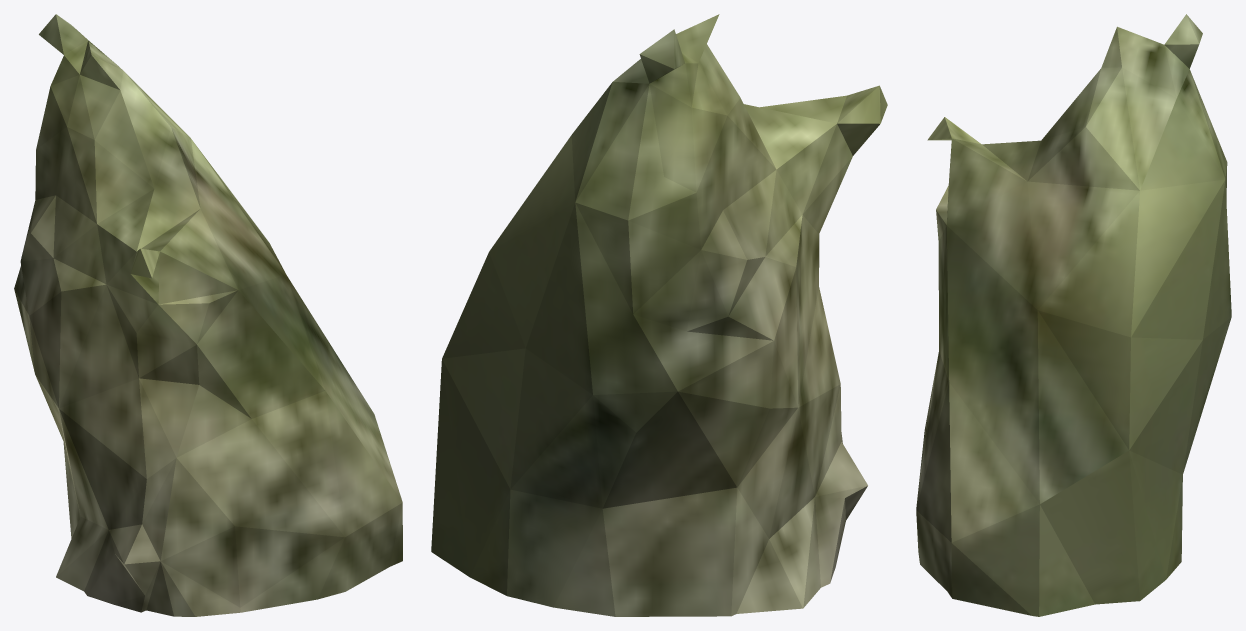
The picture shows the model from 3 angles, left to right: view 1: azimuth 30°, elevation 25°; view 2: azimuth 150°, elevation 25°; view 3: azimuth 270°, elevation 25°; orthographic projection. The views are drawn at different scales.
Size of the model in its own units: 1.17 by 1.8 by 1.07.
1 material, 1 textured.
